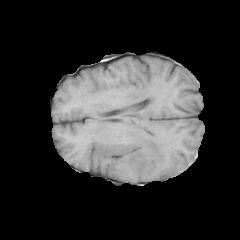glioma: (118, 132, 167, 166)
